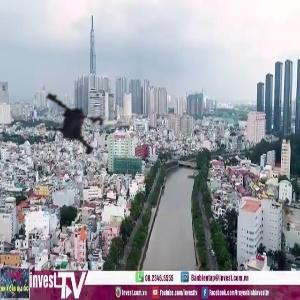drone: (32, 71, 135, 174)
